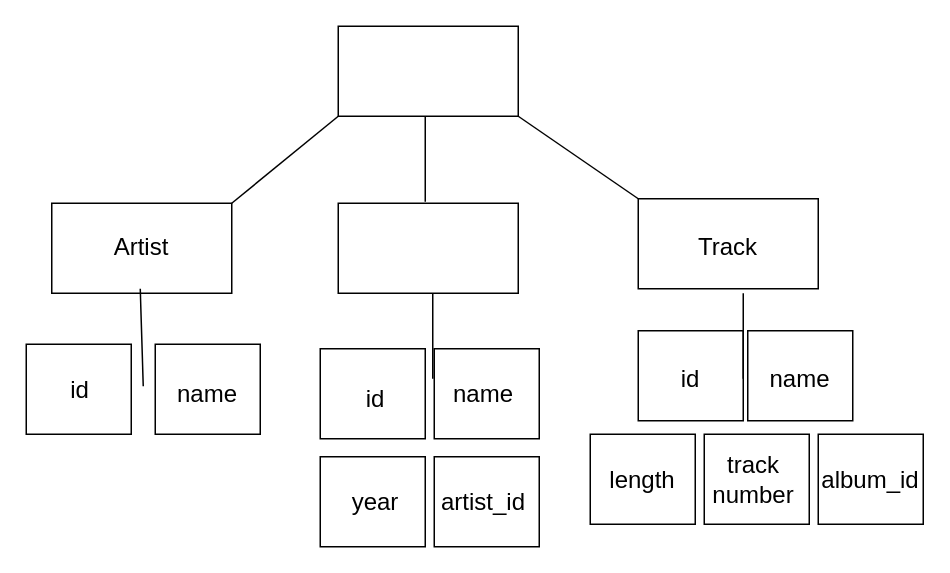
This 950x573 diagram has some shape labels left out. Each missing label, with the centre of its shape:
Album: (x=427, y=247)
Music: (x=427, y=70)
